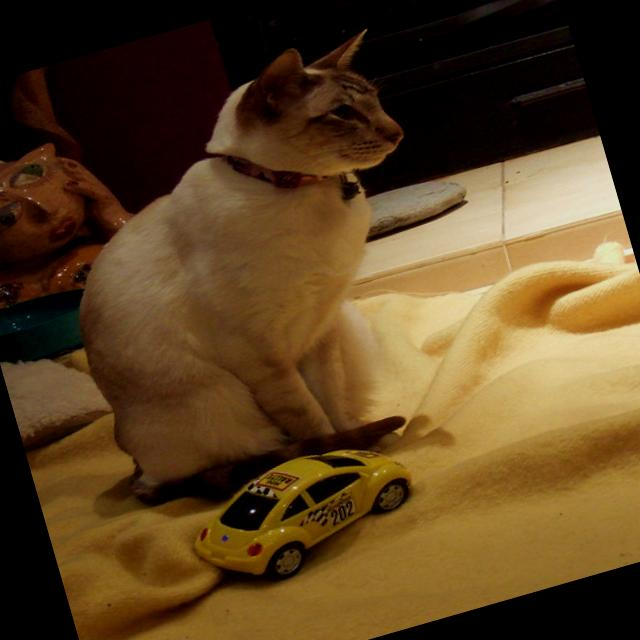Vehicle: (171, 429, 433, 603)
